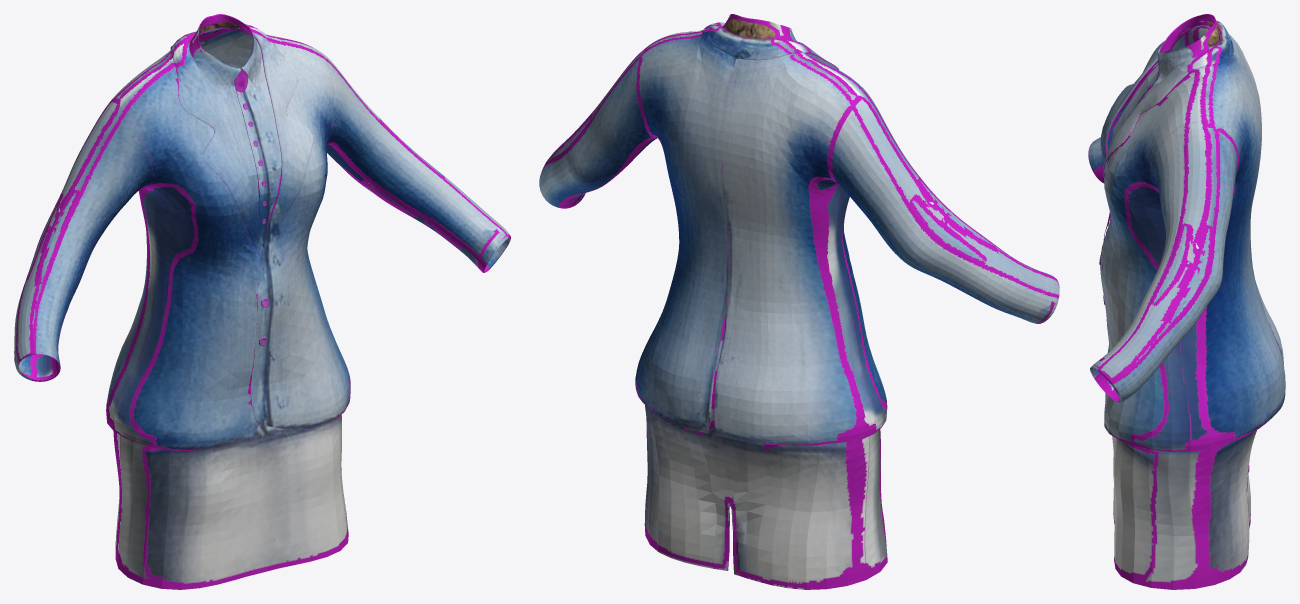
The picture shows the model from 3 angles, left to right: view 1: azimuth 30°, elevation 25°; view 2: azimuth 150°, elevation 25°; view 3: azimuth 270°, elevation 25°; orthographic projection. The views are drawn at different scales.
Bounding box in the file's own units: 0.7924 × 0.7993 × 0.2761.
1 material, 1 textured.
